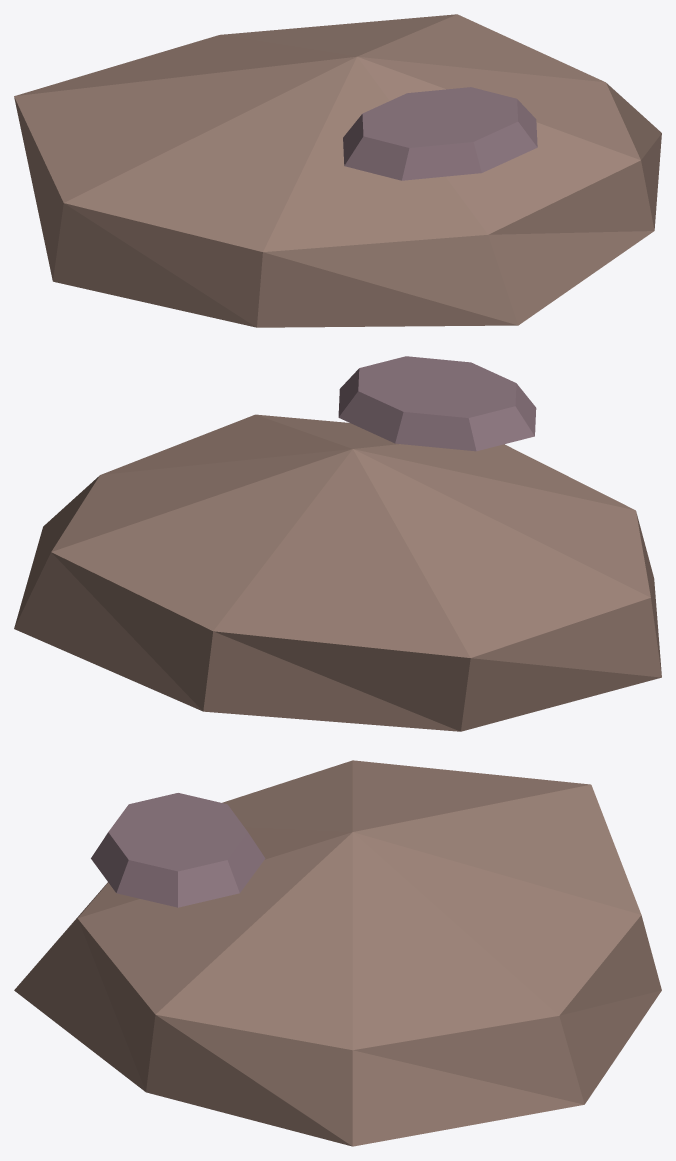
Rendered from burrow_stage2.glb.
3 views of the same model, one above another, from view 1: azimuth 30°, elevation 25°; view 2: azimuth 150°, elevation 25°; view 3: azimuth 270°, elevation 25° (orthographic). The views are drawn at different scales.
Visible parts, largest first — view 1: mound, hole; view 2: mound, hole; view 3: mound, hole.
Boxes of the visible parts, x1,y1,x2,y2 form: mound: [14, 14, 661, 327]; hole: [343, 87, 537, 180]; mound: [14, 414, 661, 731]; hole: [338, 356, 536, 451]; mound: [14, 760, 661, 1146]; hole: [91, 793, 265, 907].
Bounding box in the file's own units: 0.5074 × 0.12 × 0.4452.
